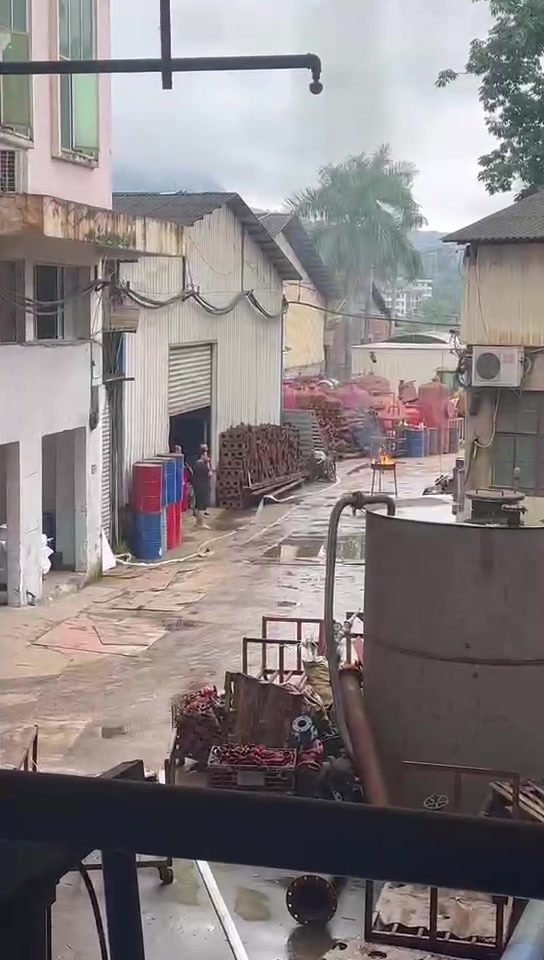fire: (370, 451, 395, 464)
